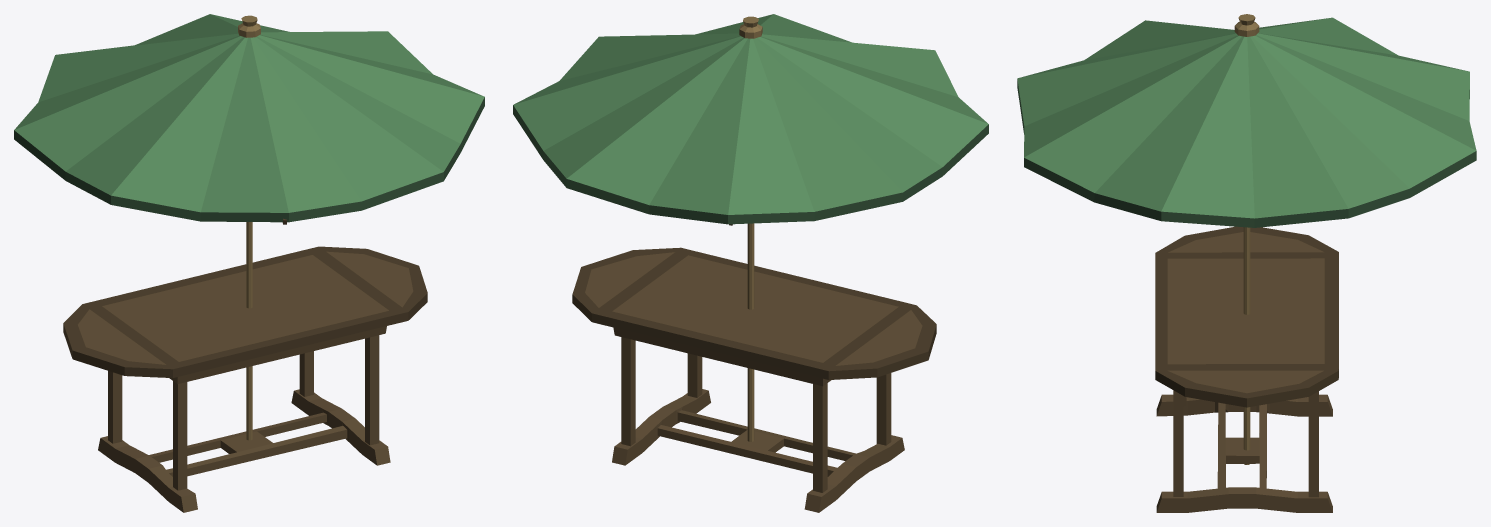
File: UmbrellaTable.obj
The picture shows the model from 3 angles, left to right: view 1: azimuth 30°, elevation 25°; view 2: azimuth 150°, elevation 25°; view 3: azimuth 270°, elevation 25°; orthographic projection. The views are drawn at different scales.
Bounding box in the file's own units: 2.33 × 2.5 × 2.33.
1 material, 1 textured.
